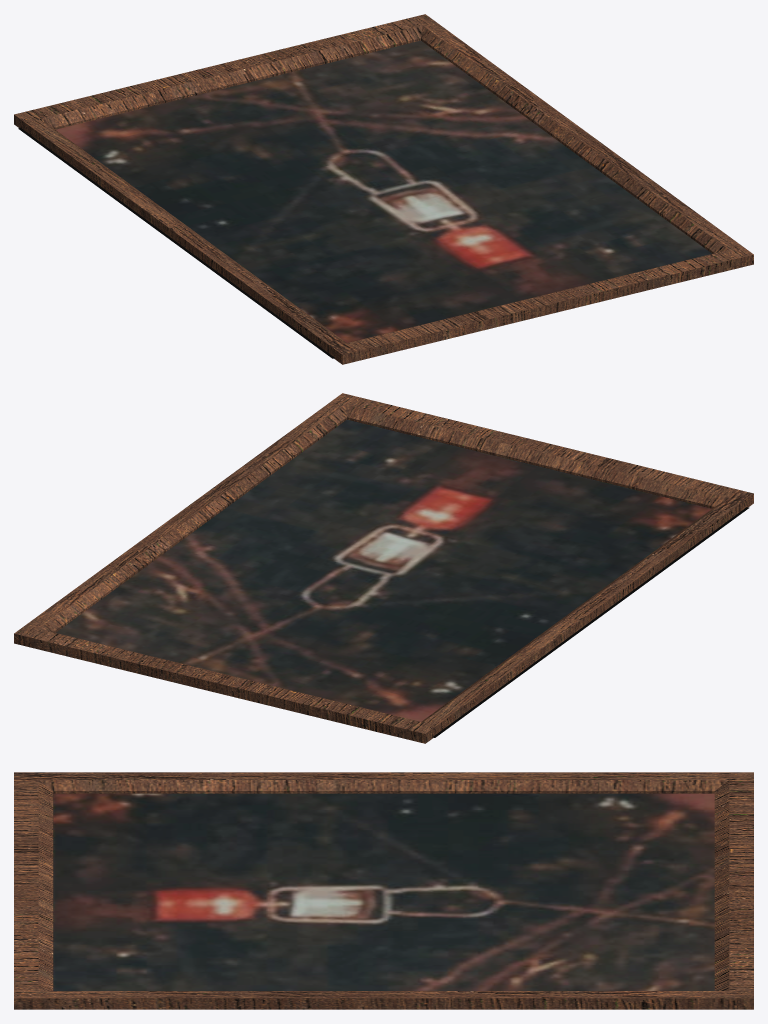
3 renders of one model, top to bottom at view 1: azimuth 30°, elevation 25°; view 2: azimuth 150°, elevation 25°; view 3: azimuth 270°, elevation 25°, orthographic. The views are drawn at different scales.
Parts seen in each view (by area): view 1: Plane, frame1(1); view 2: Plane, frame1(1); view 3: Plane, frame1(1).
Part boxes in pixels (bbox=[...]): Plane: bbox=[18, 40, 711, 358]; frame1(1): bbox=[14, 14, 753, 364]; Plane: bbox=[56, 419, 749, 737]; frame1(1): bbox=[14, 393, 753, 743]; Plane: bbox=[53, 793, 714, 990]; frame1(1): bbox=[14, 772, 753, 1009].
Size of the model in its own units: 18.72 by 0.4268 by 25.72.
Materials: 2 (2 with a texture image).
